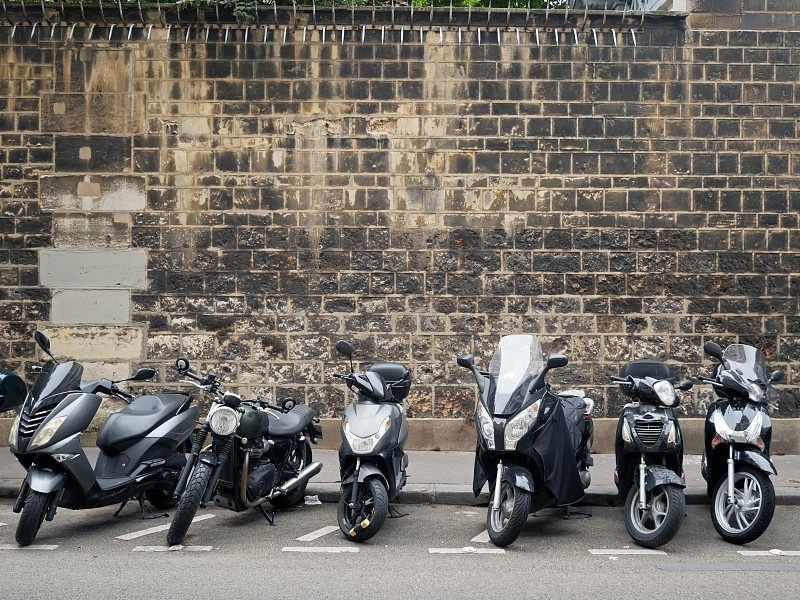non-vehicle: (9, 346, 185, 550), (457, 339, 592, 548), (169, 364, 309, 541), (696, 341, 784, 528), (329, 354, 413, 537), (609, 355, 688, 538)
